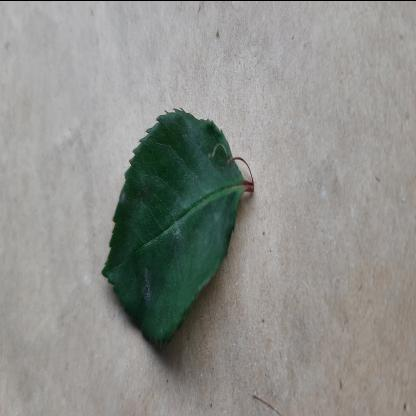powdery-mildew: (101, 93, 244, 345)
